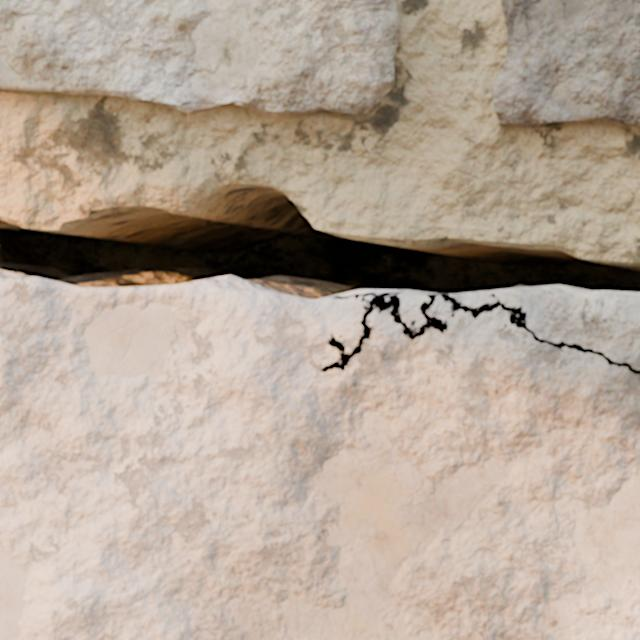crack: (0, 177, 639, 639), (0, 0, 400, 115), (493, 0, 639, 125)
